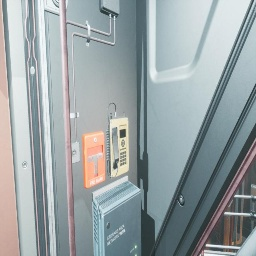EmergencyPhone ,: (106, 102, 129, 179)
FireAlarm ,: (82, 131, 105, 188)
